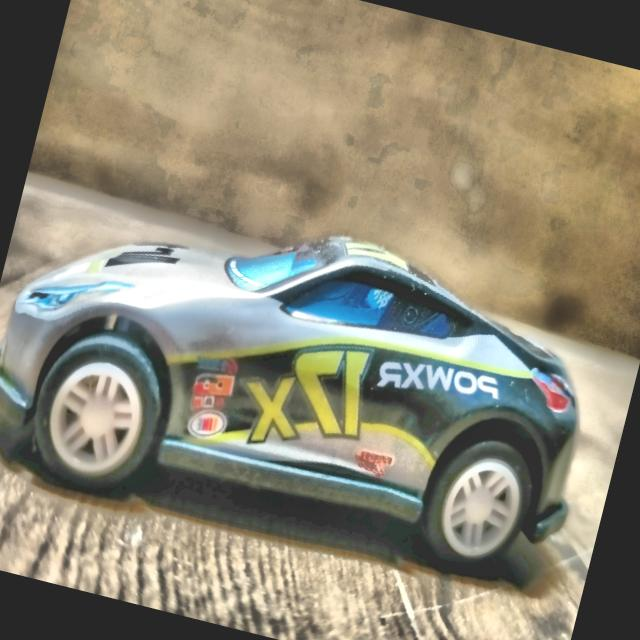Car: (0, 160, 618, 603)
